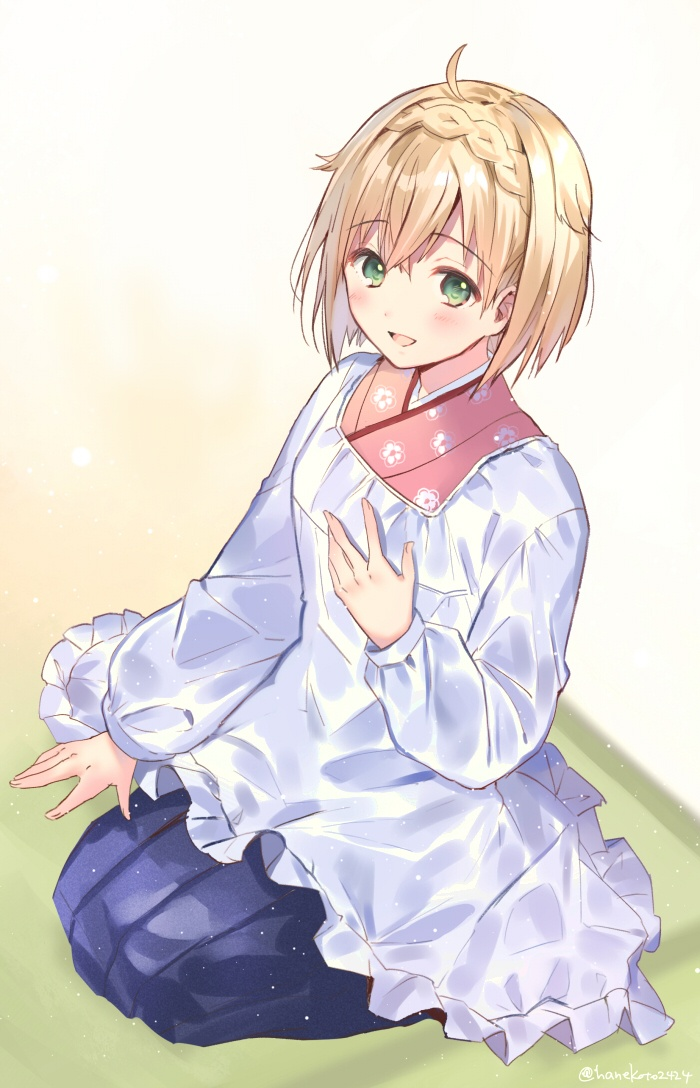纸片人正脸: (296, 54, 595, 381)
